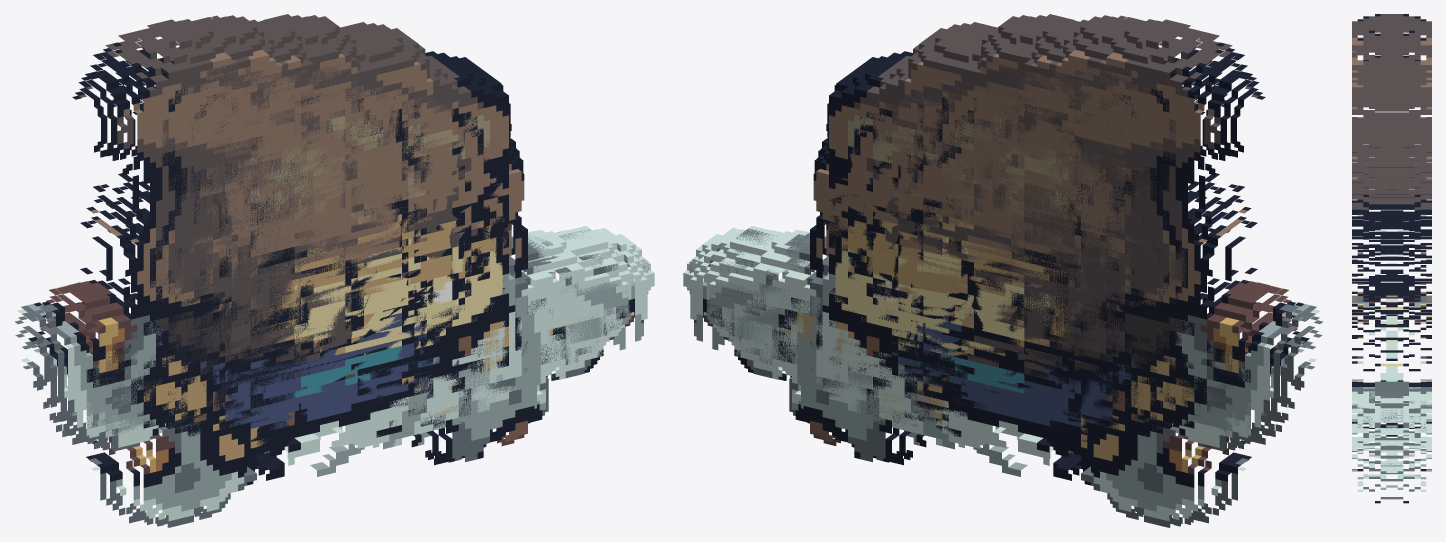
The model's file is machado_trabalhando.glb.
3 renders of one model, left to right at view 1: azimuth 30°, elevation 25°; view 2: azimuth 150°, elevation 25°; view 3: azimuth 270°, elevation 25°, orthographic. The views are drawn at different scales.
Parts seen in each view (by area): view 1: q0, q1, q2, q3, q5, q4; view 2: q0, q2, q1, q3, q4, q5; view 3: q2, q3, q4, q5, q0, q1.
Part boxes in pixels (box(x1,y1,x2,y2)): q0: box(21, 15, 426, 475); q1: box(15, 19, 414, 471); q2: box(47, 36, 654, 476); q3: box(231, 22, 648, 469); q5: box(86, 19, 441, 527); q4: box(194, 14, 548, 465); q0: box(911, 15, 1316, 475); q2: box(683, 36, 1290, 476); q1: box(923, 19, 1322, 471); q3: box(690, 22, 1106, 469); q4: box(789, 14, 1141, 465); q5: box(892, 19, 1251, 527); q2: box(1352, 77, 1431, 489); q3: box(1352, 124, 1431, 503); q4: box(1352, 81, 1431, 499); q5: box(1352, 56, 1431, 381); q0: box(1352, 33, 1431, 436); q1: box(1352, 14, 1431, 360).
Size of the model in its own units: 98 by 74 by 14.
Materials: 1 (1 with a texture image).
